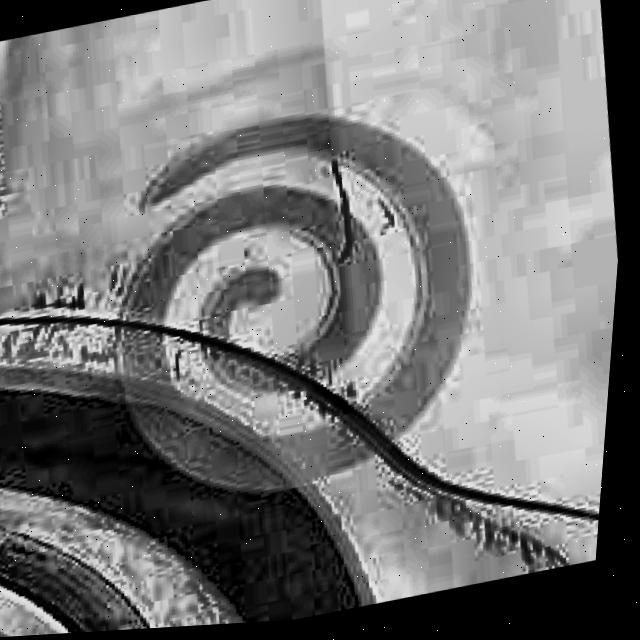door_scratch: (394, 458, 561, 594)
